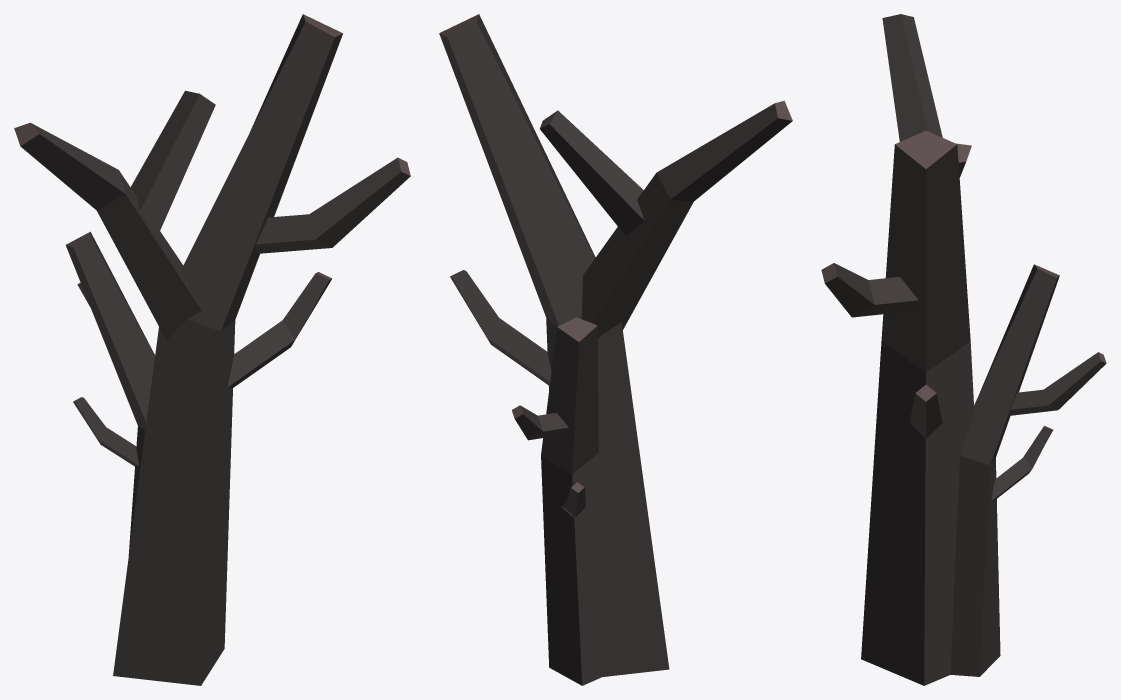
The model's file is TB_D_Env_DeadTreeA_C.FBX.
3 views of the same model, side by side, from view 1: azimuth 30°, elevation 25°; view 2: azimuth 150°, elevation 25°; view 3: azimuth 270°, elevation 25° (orthographic). The views are drawn at different scales.
Parts seen in each view (by area): view 1: TB_D_Env_DeadTreeA_C; view 2: TB_D_Env_DeadTreeA_C; view 3: TB_D_Env_DeadTreeA_C.
Boxes of the visible parts, <box> form: TB_D_Env_DeadTreeA_C: <box>14,14,410,685</box>; TB_D_Env_DeadTreeA_C: <box>439,14,792,685</box>; TB_D_Env_DeadTreeA_C: <box>821,14,1106,685</box>.
Bounding box in the file's own units: 3.43 × 5.55 × 2.41.
